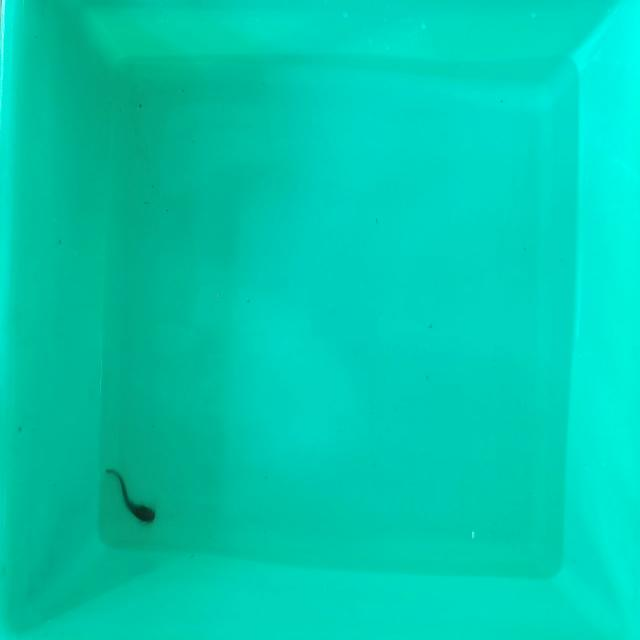lele: (107, 465, 151, 525)
